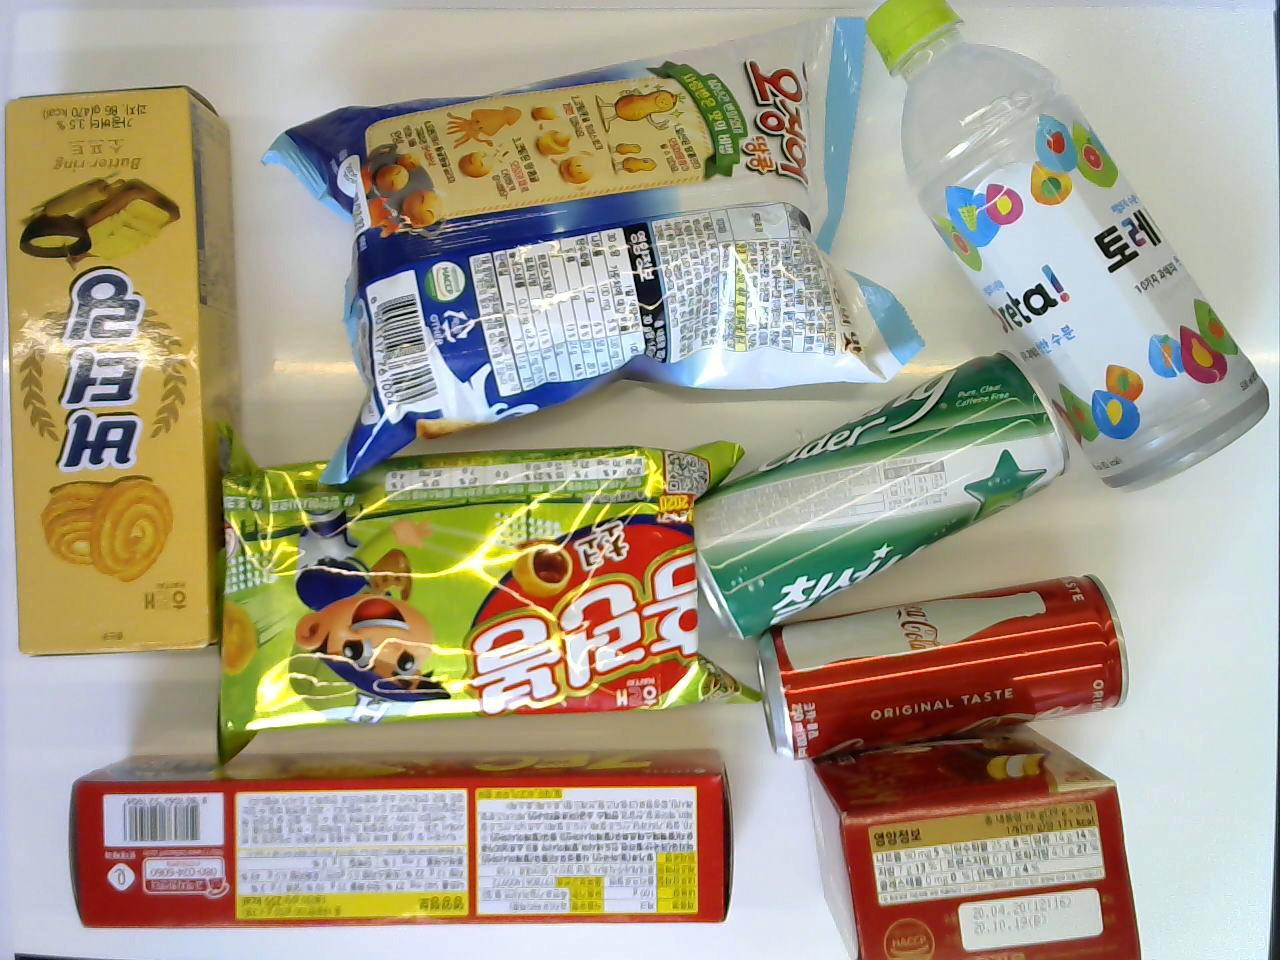buttering: (6, 86, 240, 658)
chocopie: (806, 720, 1142, 956)
cidar: (680, 344, 1072, 641)
coke: (756, 574, 1133, 763)
homerunball: (213, 438, 763, 763)
squid_peanut: (258, 11, 924, 488)
toreta: (863, 0, 1268, 499)
zec: (68, 746, 734, 930)
